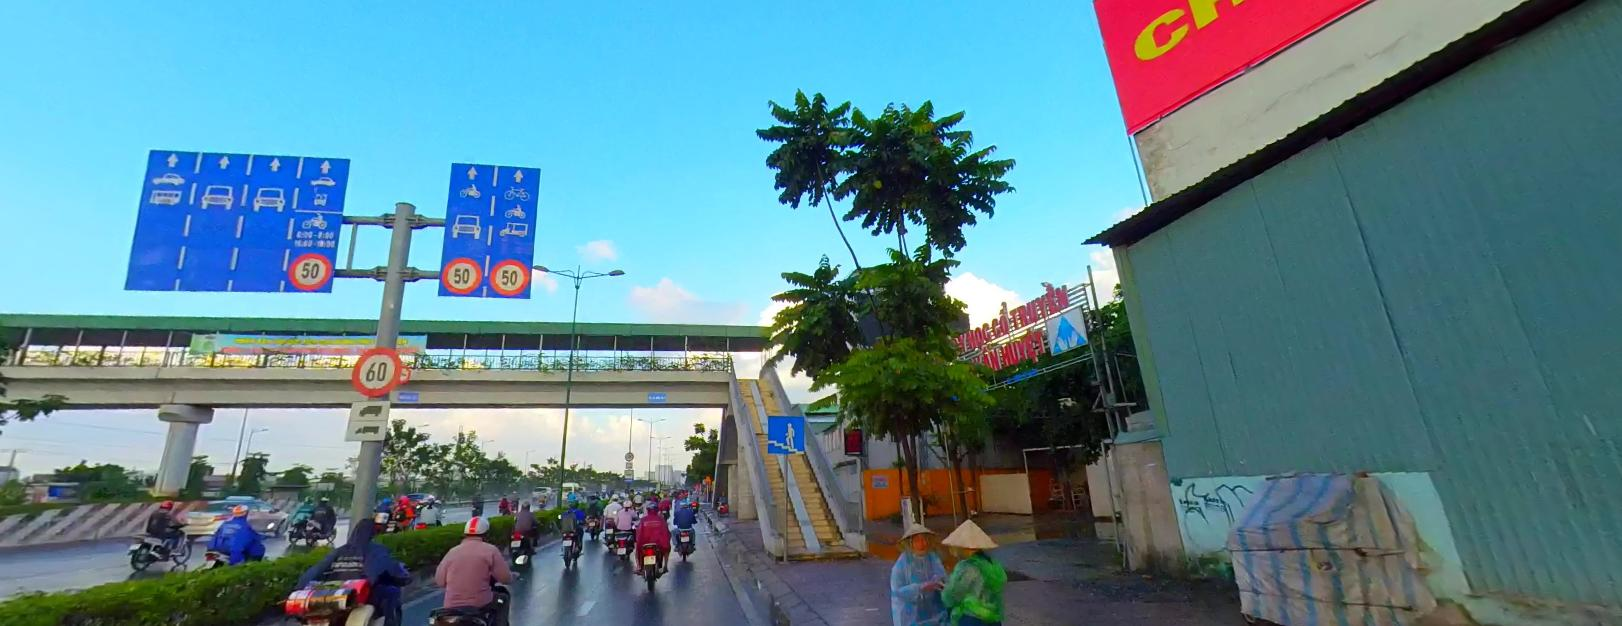Cam con lai: (394, 362, 409, 381)
Gioi han toc do: (352, 347, 396, 395), (287, 248, 331, 288), (440, 254, 481, 296), (489, 255, 528, 294)
